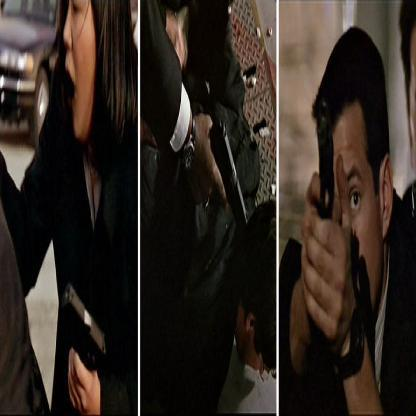gun: (50, 273, 116, 389), (198, 83, 241, 226), (308, 90, 349, 234)
